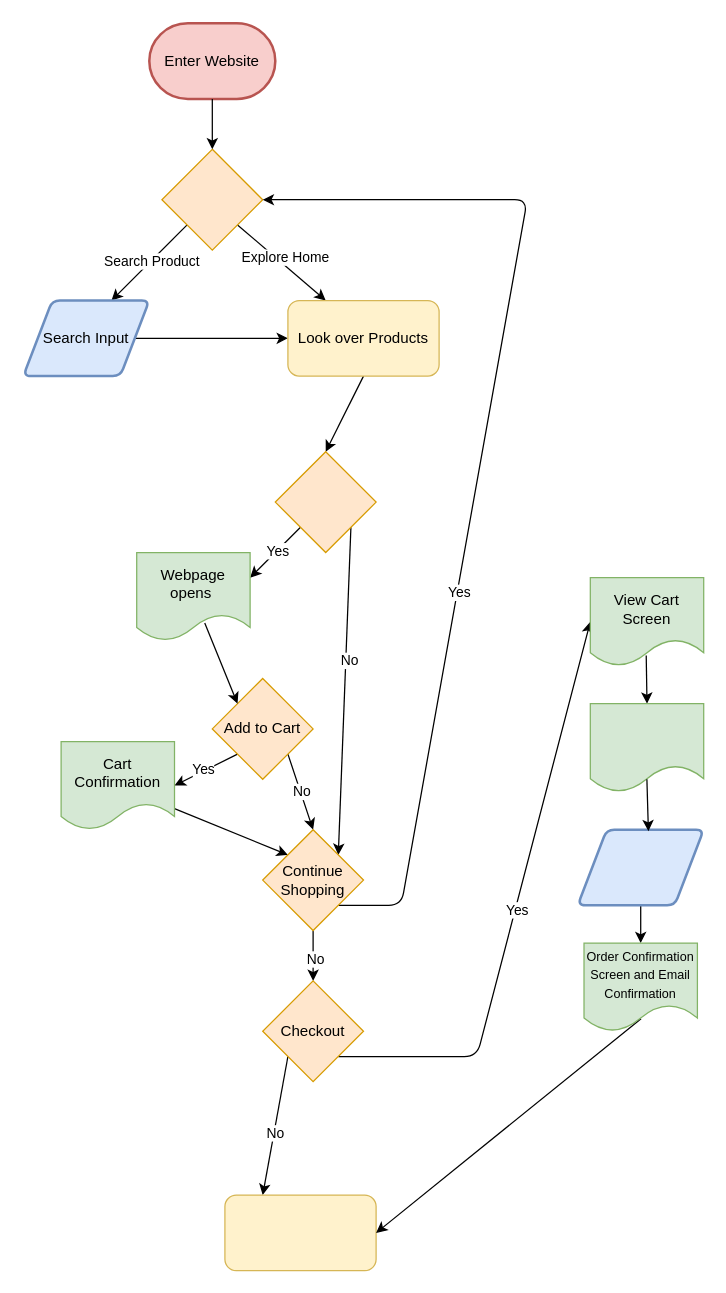
Some shapes in this 726 by 1293 pixel diagram are drawn without their labels. Each missing label, with the centre of its shape:
Input Payment Info: [640,867]
Leave Website: [300,1232]
Search or Explore: [212,199]
View Payment Screen: [646,747]
View Product: [325,501]
